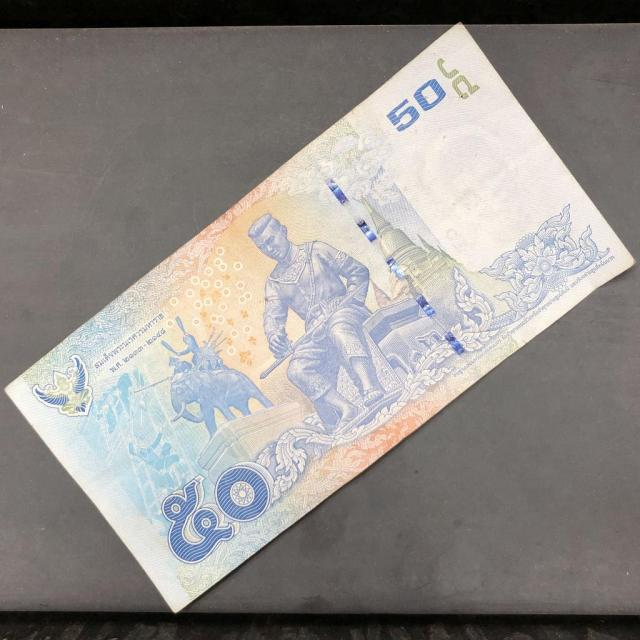THAI50: (4, 24, 636, 617)
